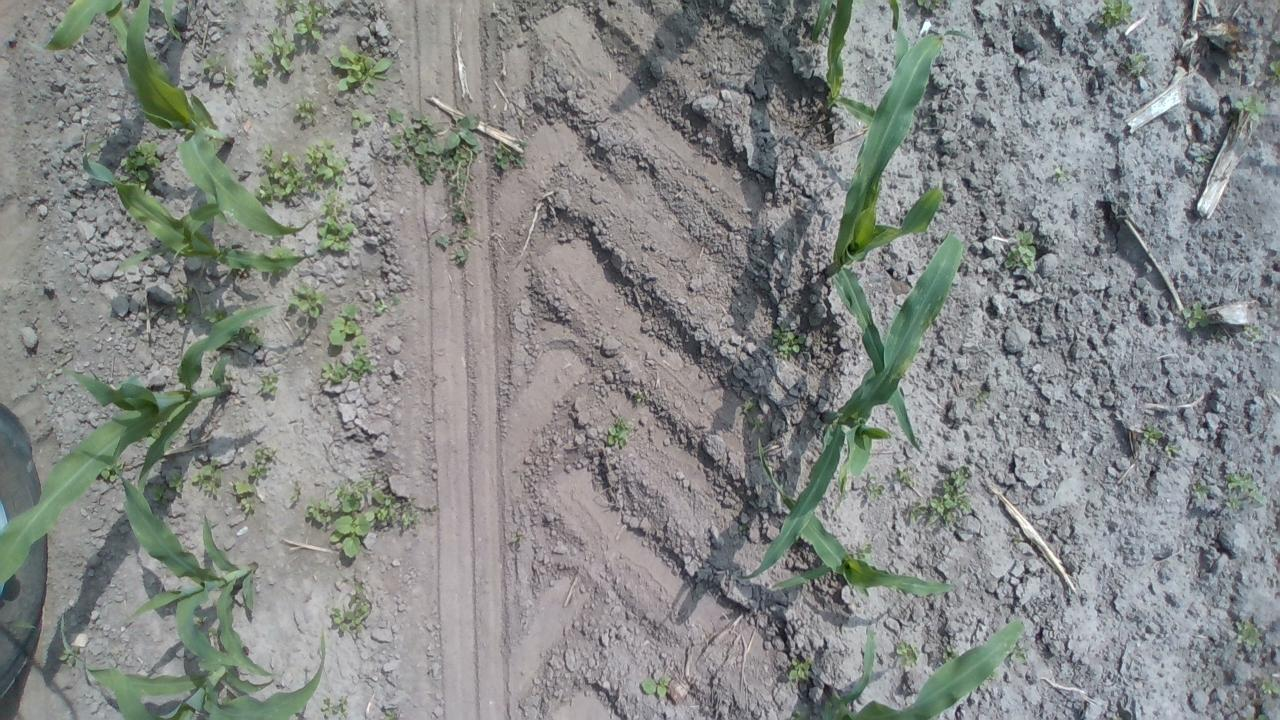Maize: (2, 292, 306, 604), (733, 228, 975, 586), (816, 29, 951, 459), (117, 1, 318, 238), (112, 470, 276, 684), (72, 156, 324, 284), (782, 614, 1040, 720), (90, 630, 337, 720), (769, 547, 968, 607), (806, 2, 906, 112)
Weeds: (304, 468, 422, 562), (434, 106, 484, 274), (382, 103, 438, 182), (912, 465, 976, 531), (326, 39, 392, 98), (251, 142, 306, 206), (326, 578, 374, 638), (304, 140, 348, 197), (315, 192, 354, 255), (316, 348, 376, 386), (1220, 468, 1268, 514), (118, 140, 168, 184), (492, 121, 526, 179), (996, 226, 1038, 272), (1228, 93, 1268, 141), (1138, 417, 1180, 461), (326, 300, 364, 346), (735, 388, 773, 432), (266, 28, 299, 78), (200, 52, 242, 90), (286, 2, 324, 44), (770, 321, 809, 360), (287, 284, 326, 322), (148, 469, 188, 503), (1118, 43, 1152, 82), (245, 439, 277, 480), (1100, 1, 1138, 34), (1249, 674, 1279, 714), (227, 473, 256, 513), (194, 456, 220, 500), (1181, 300, 1213, 334), (636, 668, 670, 700), (890, 638, 924, 668), (172, 285, 198, 324), (604, 413, 630, 452), (318, 691, 352, 720), (292, 96, 322, 128), (244, 48, 270, 81), (1229, 616, 1257, 646), (861, 476, 892, 503), (258, 366, 281, 400), (1182, 476, 1212, 502), (788, 660, 818, 686), (236, 324, 266, 350), (348, 106, 374, 136), (893, 465, 921, 492), (200, 304, 234, 326), (373, 293, 401, 319), (630, 382, 656, 407), (98, 461, 127, 482), (1238, 324, 1265, 346), (1051, 166, 1082, 184), (1194, 150, 1220, 170), (937, 648, 962, 664), (1268, 55, 1280, 84), (1012, 646, 1029, 666)
